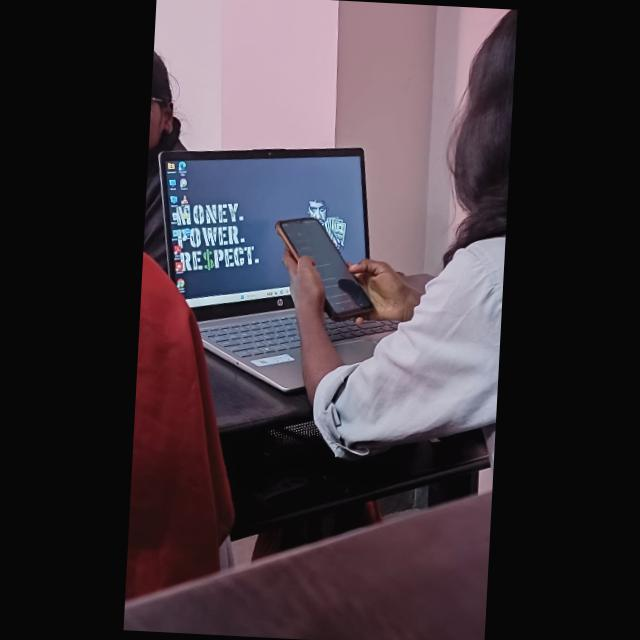laptop: (158, 134, 410, 386)
